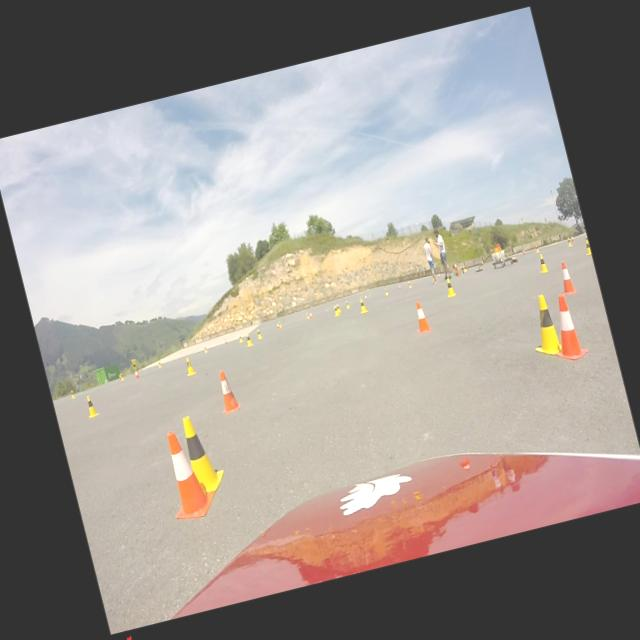orange_cone: (155, 424, 219, 521), (544, 292, 590, 364), (213, 368, 241, 413), (410, 300, 432, 334), (556, 260, 576, 294), (133, 369, 139, 379), (275, 322, 279, 329), (571, 235, 574, 242), (309, 312, 312, 318), (522, 250, 524, 254)
unknown_cone: (453, 262, 460, 276), (458, 266, 464, 275), (452, 268, 456, 278)
yellow_cone: (179, 411, 227, 494), (524, 294, 562, 358), (84, 394, 98, 418), (182, 355, 195, 376), (536, 253, 549, 273), (444, 277, 456, 297), (357, 298, 368, 314), (582, 240, 592, 255), (244, 332, 252, 347), (332, 304, 339, 316), (566, 236, 572, 247), (256, 328, 262, 338), (335, 302, 341, 312), (534, 244, 540, 253), (70, 389, 75, 398), (120, 372, 124, 380), (238, 334, 242, 342), (278, 320, 282, 328), (345, 300, 349, 308), (384, 287, 388, 295), (408, 280, 412, 288), (584, 234, 588, 242), (157, 361, 161, 368), (203, 346, 207, 352), (306, 312, 309, 318), (364, 294, 367, 299), (464, 266, 466, 272)
